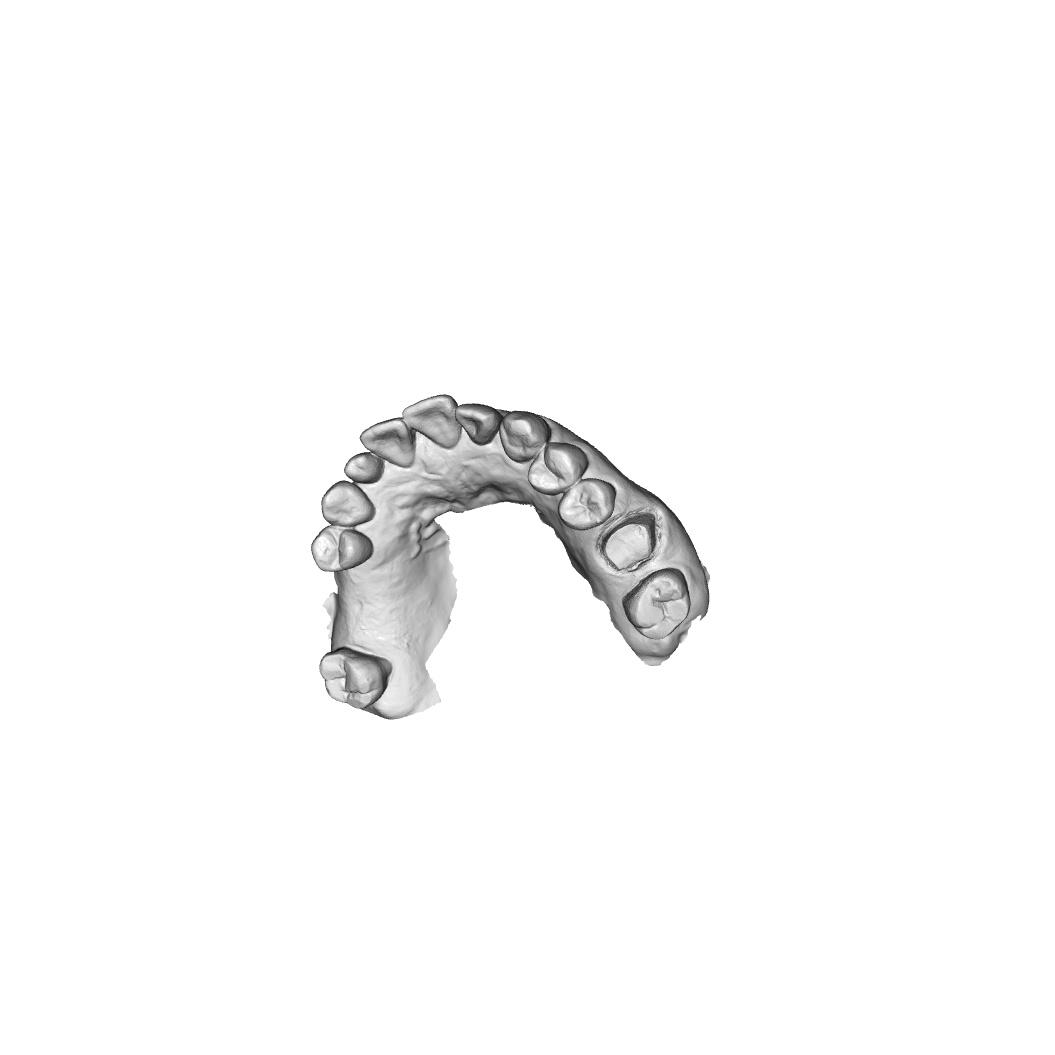canine: (527, 441, 590, 496), (320, 480, 376, 528)
crown: (597, 513, 660, 574)
incisor: (401, 393, 463, 450), (359, 416, 417, 469), (499, 409, 552, 463), (454, 403, 504, 447), (343, 451, 385, 485)
molar: (623, 567, 691, 641), (318, 646, 393, 710)
premolar: (557, 477, 617, 531), (310, 524, 374, 572)
